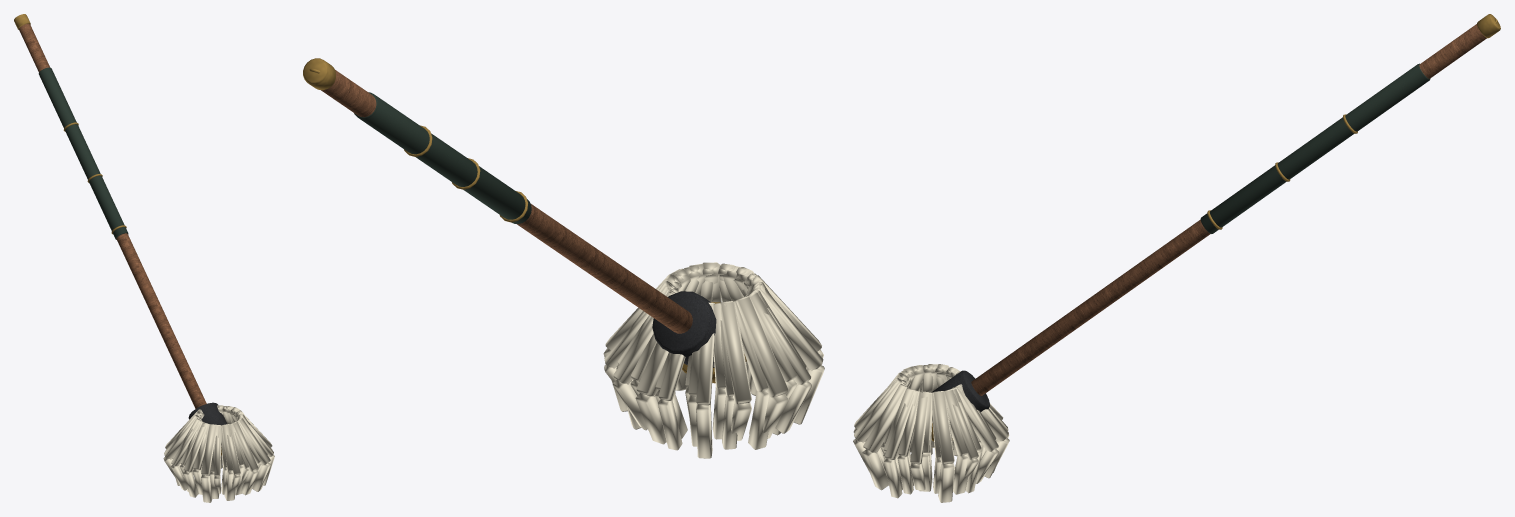
Rendered from asset_072_mop_fp.glb.
The picture shows the model from 3 angles, left to right: view 1: azimuth 30°, elevation 25°; view 2: azimuth 150°, elevation 25°; view 3: azimuth 270°, elevation 25°; orthographic projection. The views are drawn at different scales.
Visible parts, largest first — view 1: MESH_MopSkirt, MESH_MopHandle, MESH_MopGripWrap, MESH_MopCollar; view 2: MESH_MopSkirt, MESH_MopHandle, MESH_MopGripWrap, MESH_MopCollar, MESH_MopHandleCap; view 3: MESH_MopSkirt, MESH_MopHandle, MESH_MopGripWrap, MESH_MopCollar.
Boxes of the visible parts, x1,y1,x2,y2 form: MESH_MopSkirt: (163, 405, 274, 502); MESH_MopHandle: (19, 23, 206, 408); MESH_MopGripWrap: (38, 67, 128, 239); MESH_MopCollar: (188, 402, 227, 425); MESH_MopSkirt: (603, 262, 824, 458); MESH_MopHandle: (321, 70, 692, 333); MESH_MopGripWrap: (354, 92, 531, 223); MESH_MopCollar: (652, 291, 716, 367); MESH_MopHandleCap: (303, 58, 335, 90); MESH_MopSkirt: (853, 364, 1009, 502); MESH_MopHandle: (971, 24, 1486, 395); MESH_MopGripWrap: (1200, 63, 1430, 233); MESH_MopCollar: (931, 370, 989, 411).
Size of the model in its own units: 0.2832 by 0.9158 by 1.17.
5 materials, 4 textured.
